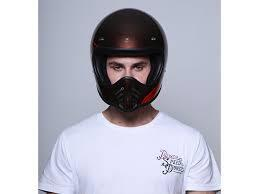helmet: (89, 8, 169, 113)
